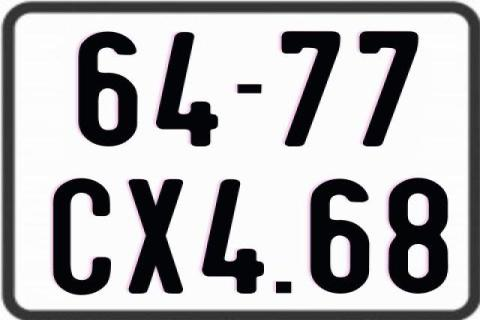0: (75, 29, 138, 149), (201, 177, 264, 297), (156, 32, 218, 151), (356, 29, 420, 144), (386, 176, 446, 296), (281, 31, 341, 149), (309, 178, 370, 294)
C: (50, 178, 108, 300)
X: (126, 180, 186, 296)
